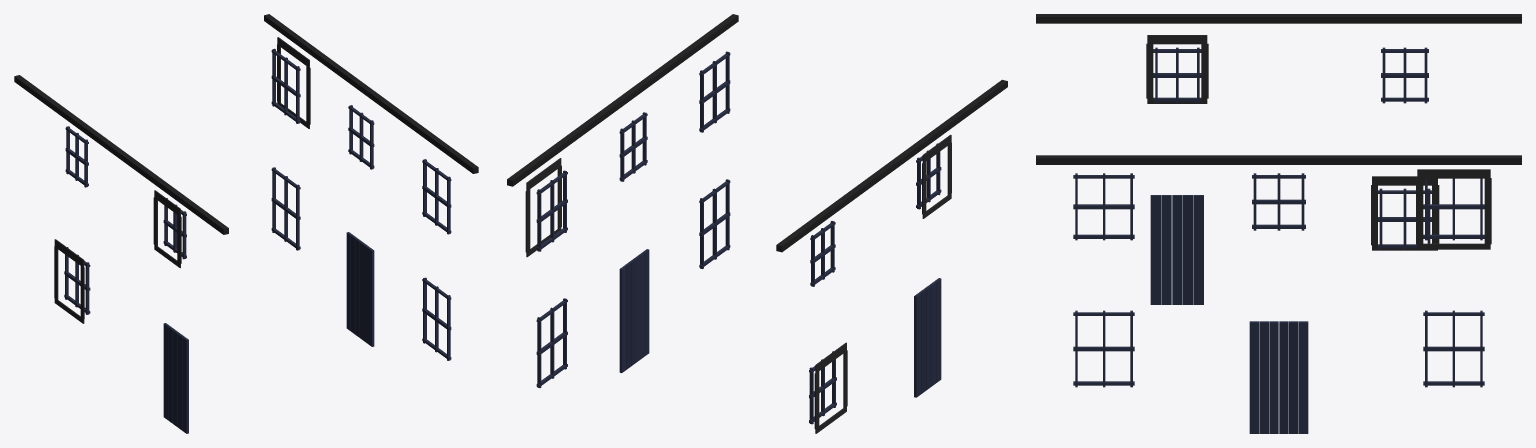
File: SM_Bld_048_Wood.glb
The picture shows the model from 3 angles, left to right: view 1: azimuth 30°, elevation 25°; view 2: azimuth 150°, elevation 25°; view 3: azimuth 270°, elevation 25°; orthographic projection. The views are drawn at different scales.
Parts seen in each view (by area): view 1: SM_Bld_048_Wood; view 2: SM_Bld_048_Wood; view 3: SM_Bld_048_Wood.
Boxes of the visible parts, x1=… form: SM_Bld_048_Wood: x1=14, y1=14, x2=478, y2=433; SM_Bld_048_Wood: x1=507, y1=14, x2=1007, y2=433; SM_Bld_048_Wood: x1=1036, y1=14, x2=1521, y2=433.
Size of the model in its own units: 5.7 by 5.2 by 8.1.
